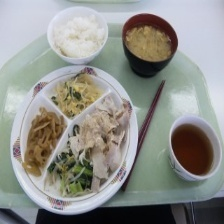rice: (46, 9, 108, 61)
